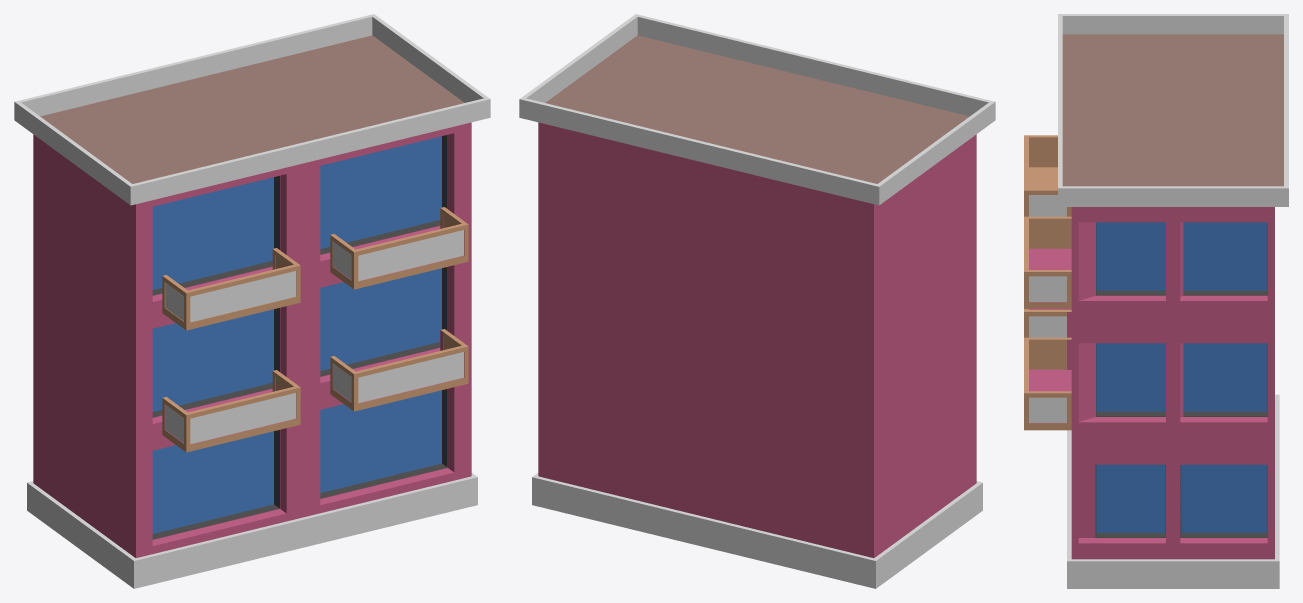
Rendered from bldg_apartment2.fbx.
The picture shows the model from 3 angles, left to right: view 1: azimuth 30°, elevation 25°; view 2: azimuth 150°, elevation 25°; view 3: azimuth 270°, elevation 25°; orthographic projection.
Parts seen in each view (by area): view 1: building_006; view 2: building_006; view 3: building_006.
Part boxes in pixels (x1=…): building_006: x1=14, y1=14, x2=490, y2=588; building_006: x1=519, y1=14, x2=995, y2=588; building_006: x1=1024, y1=14, x2=1288, y2=588.
Bounding box in the file's own units: 8.68 × 9.39 × 5.57.
